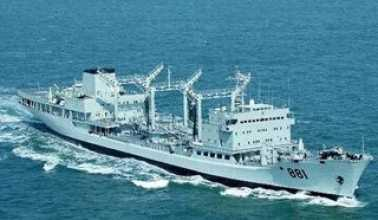warship: (22, 60, 369, 199)
